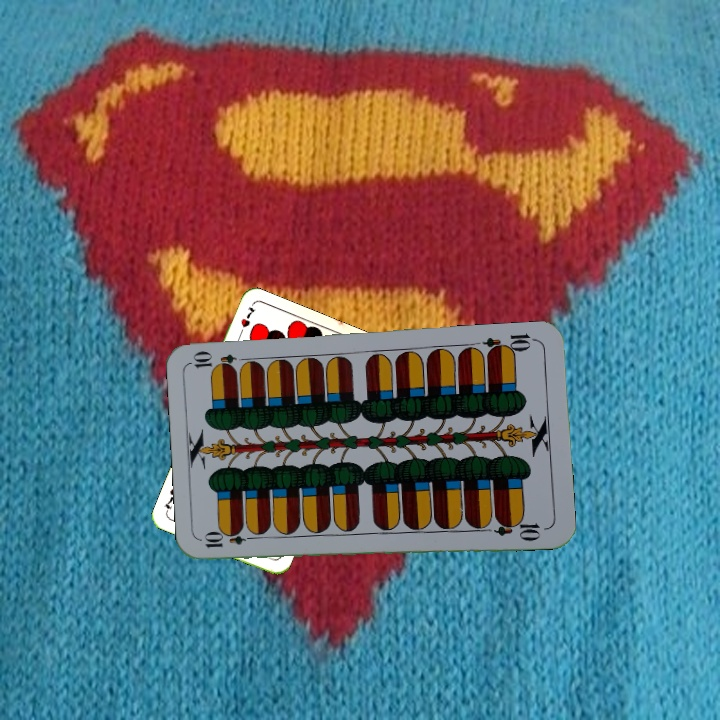E10: (480, 330, 539, 358), (200, 530, 260, 551)
H7: (234, 301, 258, 340)
